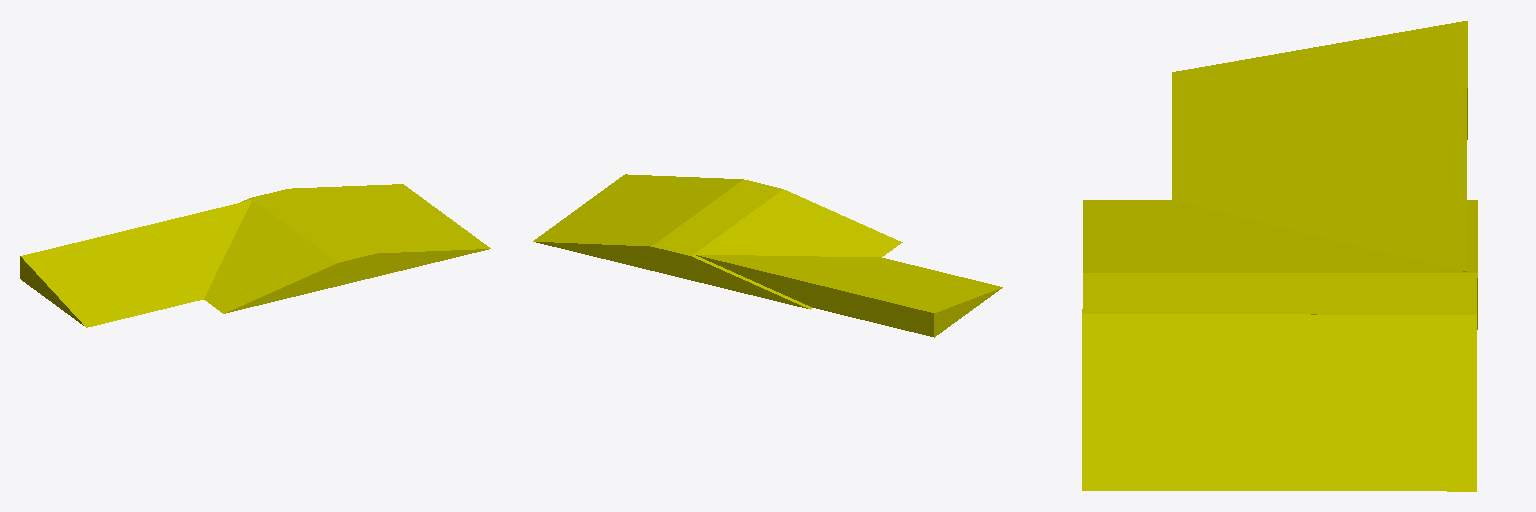
robot.urdf — block1_11_11:
<?xml version="1.0" ?>
<robot name="block1_11_11">
    <material name="mustard_yellow">
        <color rgba="0.8 0.8 0.0 1"/>
           </material>
  <link name="block1_11_11__link_0">
    <inertial>
      <mass value="100"/>
      <origin rpy="0      0      3.14" xyz="0 0 0"/>
      <inertia ixx="0.166667" ixy="0" ixz="0" iyy="0.166667" iyz="0" izz="0.166667"/>
    </inertial>
    <collision name="block1_11_11__collision">
      <origin rpy="0      0      3.14" xyz="0 0 0"/>
      <geometry>
        <mesh filename="package://block1_11_11/block1_11_11.stl" scale="0.7 0.7 0.7"/>
      </geometry>
    </collision>
    <visual name="block1_11_11__visual">
      <origin rpy="0      0      3.14" xyz="0 0 0"/>
      <geometry>
        <mesh filename="package://block1_11_11/block1_11_11.stl" scale="0.7 0.7 0.7"/>
      </geometry>
        <material name="mustard_yellow"/>
    </visual>
  </link>
</robot>

--- Facts derived from the render (not from the file) ---
3 views of the same robot in one strip: view 1: azimuth 30°, elevation 25°; view 2: azimuth 150°, elevation 25°; view 3: azimuth 270°, elevation 25° (orthographic).
Model block1_11_11 with 1 links and 0 joints (none), rooted at block1_11_11__link_0, posed every joint at zero.
Visible links, largest first — view 1: block1_11_11__link_0; view 2: block1_11_11__link_0; view 3: block1_11_11__link_0.
Boxes of the visible links, x1,y1,x2,y2 form: block1_11_11__link_0: (20, 184, 490, 327); block1_11_11__link_0: (533, 174, 1002, 337); block1_11_11__link_0: (1082, 21, 1477, 491).
Size in the robot's own frame: 3.52 by 1.41 by 0.2037 metres.
1 mesh visuals loaded from 1 distinct referenced files (1 binary STL).